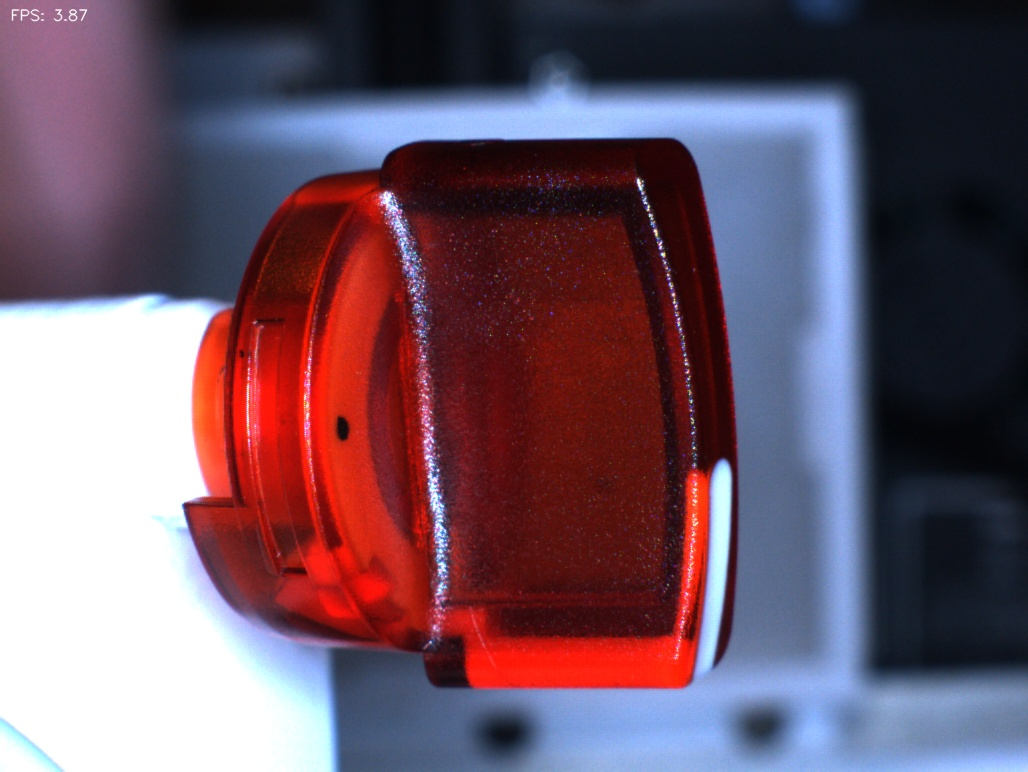PointNoir: (300, 389, 383, 480)
